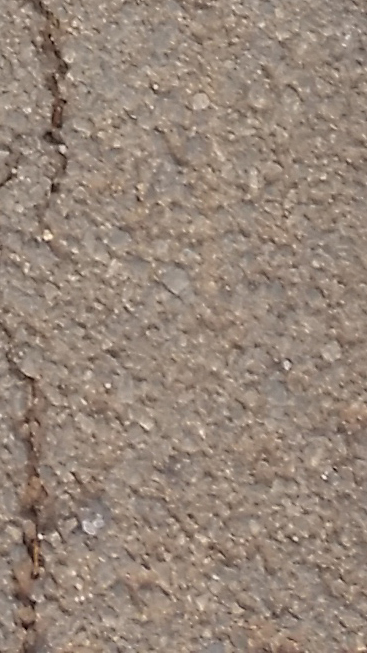A: (5, 1, 90, 648)
